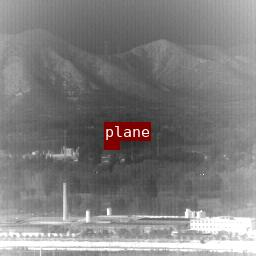plane: (104, 141, 119, 149)
